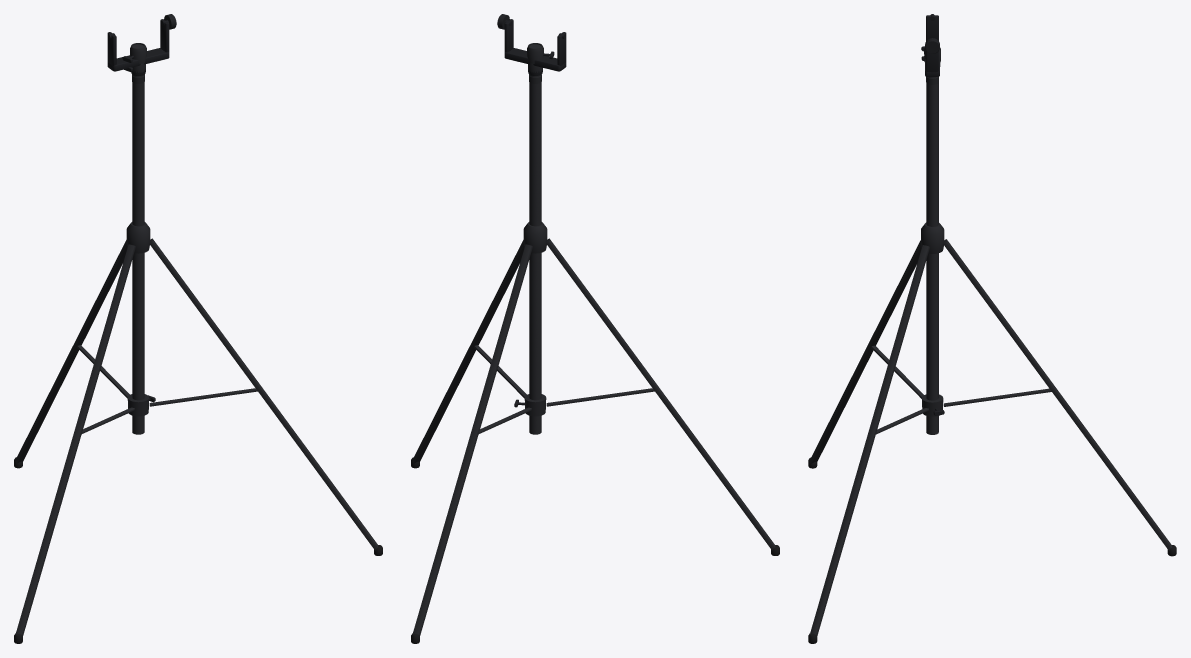
File: studio-light-stand.glb
3 views of the same model, side by side, from view 1: azimuth 30°, elevation 25°; view 2: azimuth 150°, elevation 25°; view 3: azimuth 270°, elevation 25° (orthographic).
Parts seen in each view (by area): view 1: Light stand legs and braces, Light stand castings and locks, Light stand lock knobs; view 2: Light stand legs and braces, Light stand castings and locks, Light stand lock knobs; view 3: Light stand legs and braces, Light stand castings and locks, Light stand lock knobs.
Part boxes in pixels (bbox=[...]): Light stand legs and braces: bbox=[16, 44, 378, 635]; Light stand castings and locks: bbox=[126, 43, 150, 416]; Light stand lock knobs: bbox=[107, 19, 169, 402]; Light stand legs and braces: bbox=[413, 44, 775, 635]; Light stand castings and locks: bbox=[523, 43, 547, 416]; Light stand lock knobs: bbox=[504, 19, 566, 407]; Light stand legs and braces: bbox=[810, 77, 1171, 635]; Light stand castings and locks: bbox=[921, 47, 944, 416]; Light stand lock knobs: bbox=[921, 14, 944, 415].
Size of the model in its own units: 0.8494 by 1.17 by 0.738.
6 materials, 6 textured.
